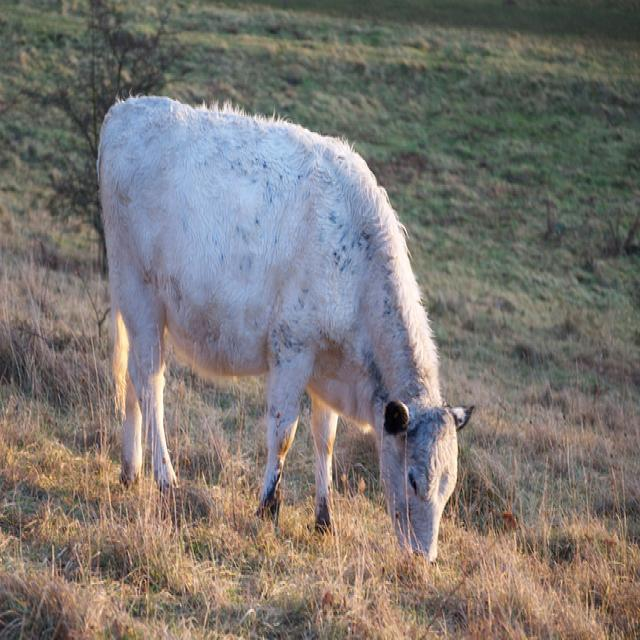cow: (97, 92, 473, 559)
